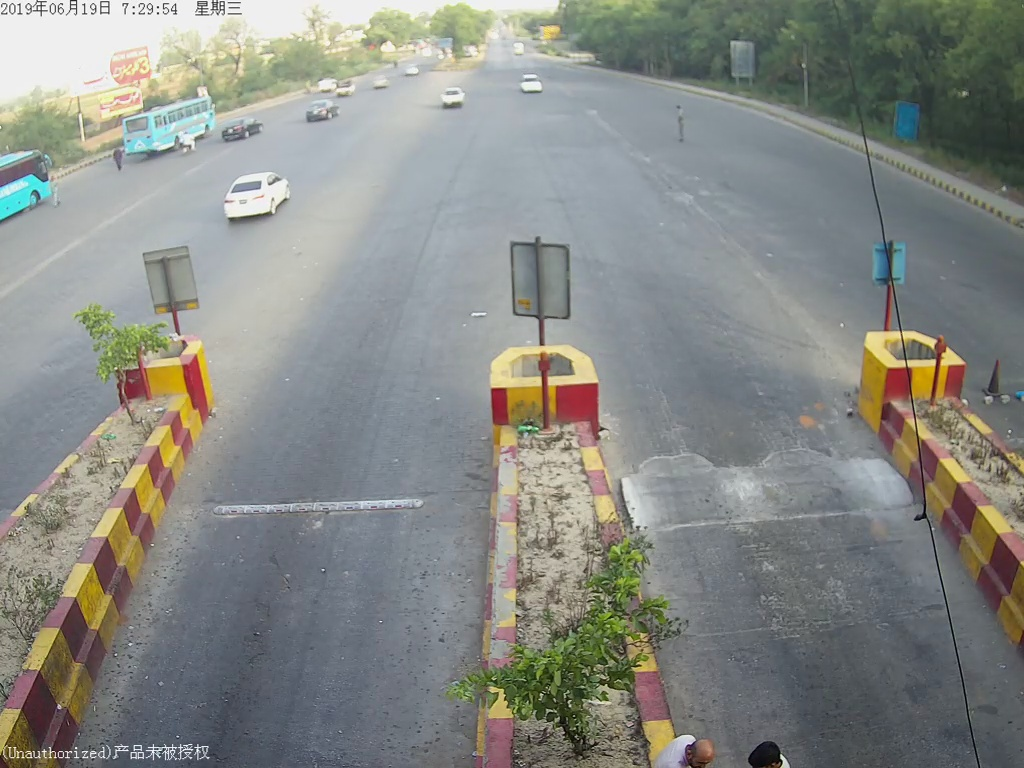Cat-1: (431, 78, 472, 117)
